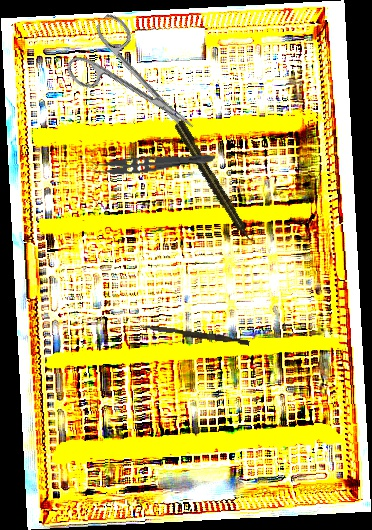Handpiece: (172, 118, 257, 248)
Iris Scissors: (59, 10, 214, 161)
Pusher: (139, 324, 251, 346)
Tissue Forceps: (87, 143, 216, 180)
